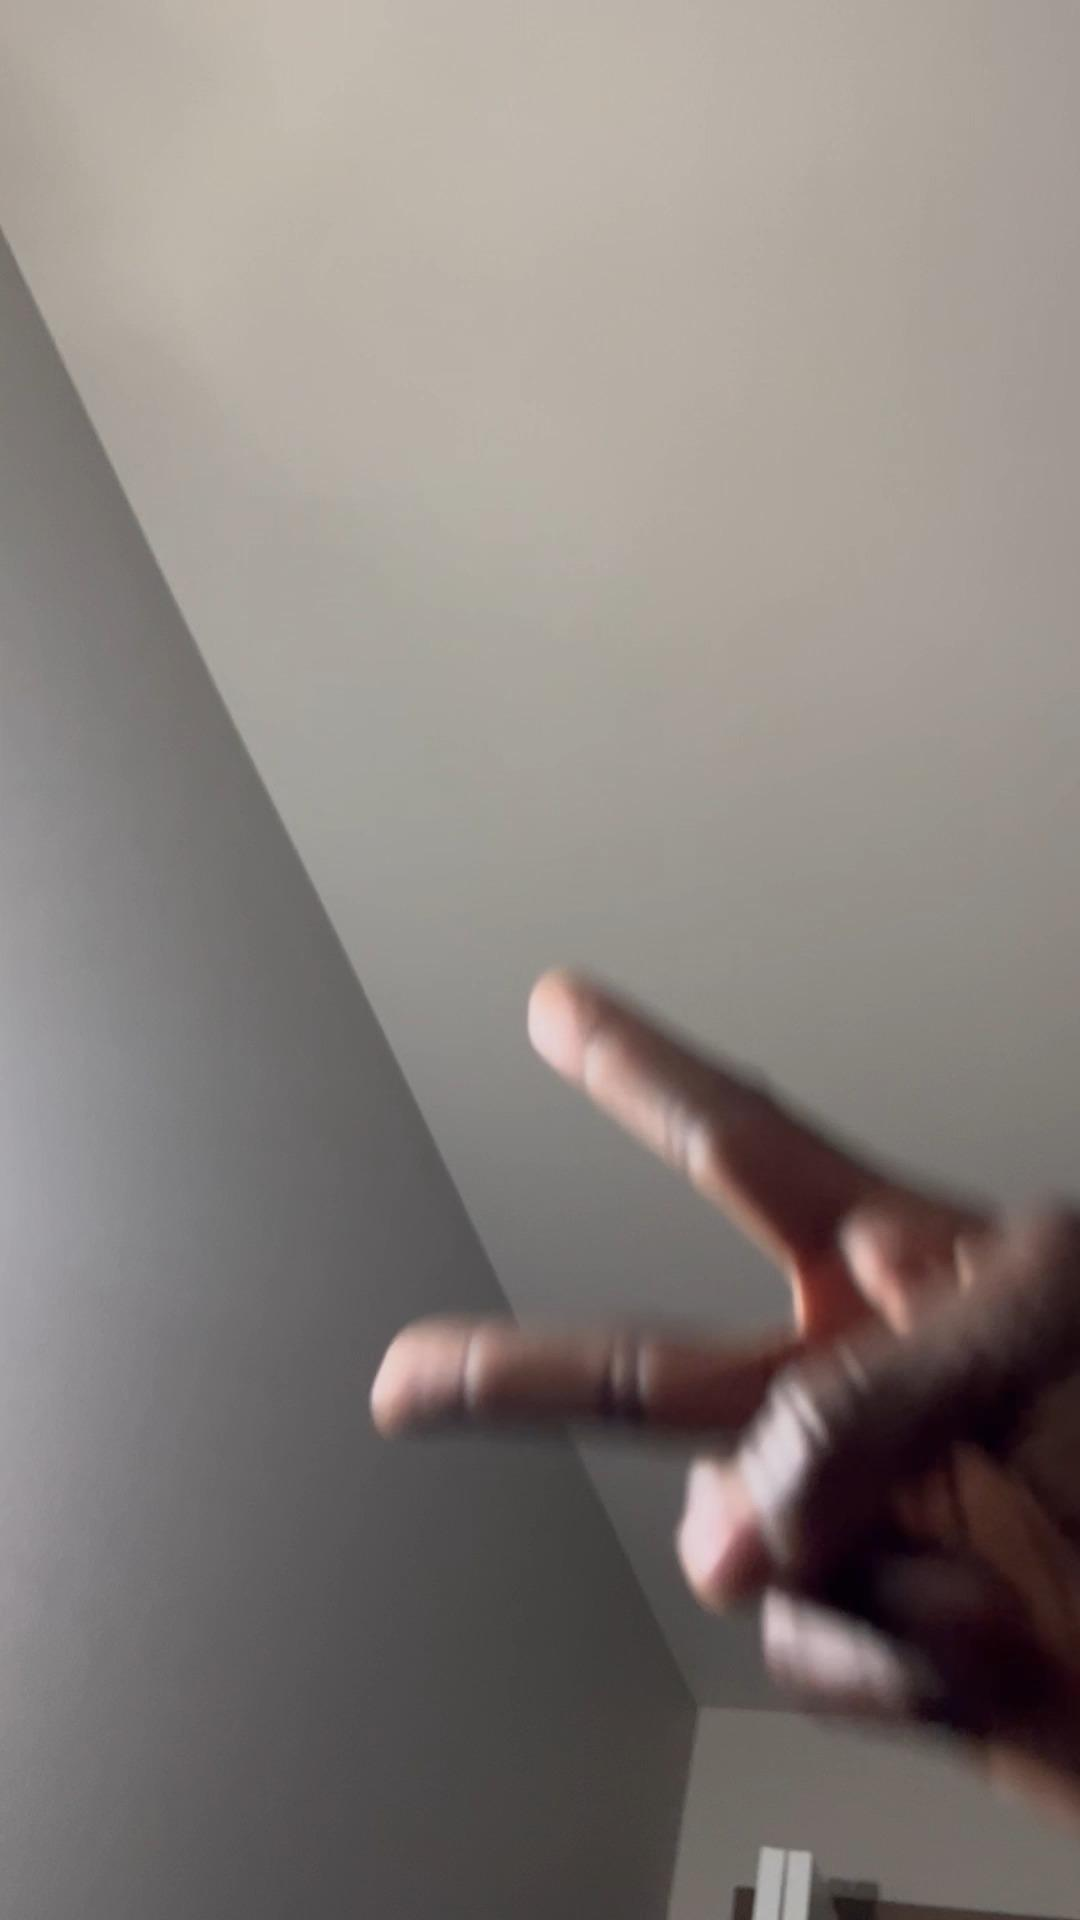Scissors: (371, 971, 1080, 1792)
